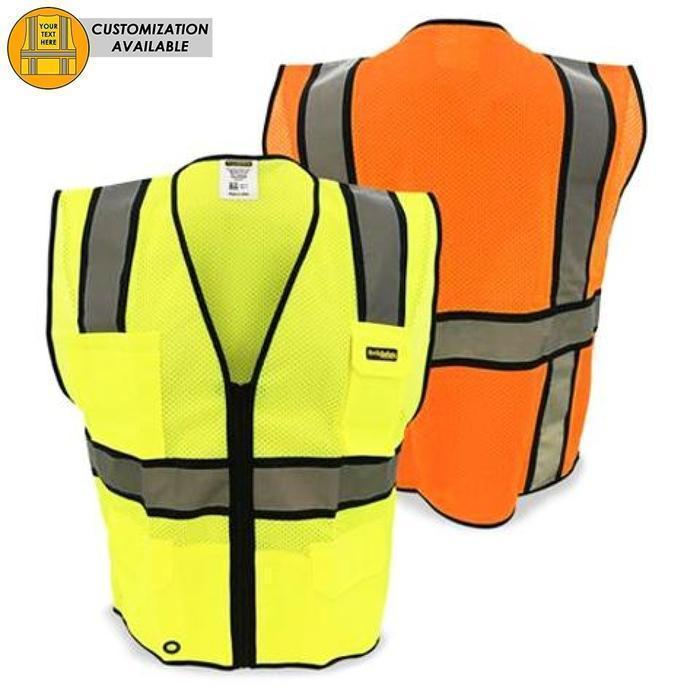Glass: (39, 144, 446, 667)
